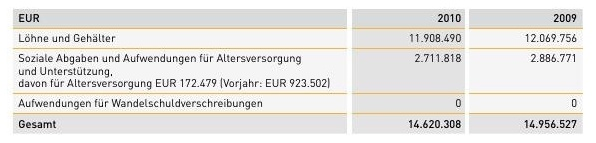table: (0, 0, 596, 143)
